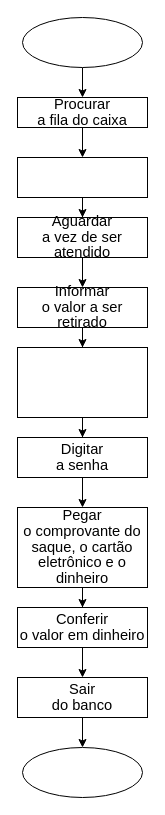
Image size: 165x815. Some labels were removed from this diagram. The shapes that lost their labels are listed below. From the top down, each one's centre as x and y in pixels, then its label:
At (82,42): "Início".
At (82,177): "Entrar na fila do caixa".
At (82,382): "Entregar o cartão eletrônico ao funcionário que atende no caixa".
At (82,772): "Fim".
